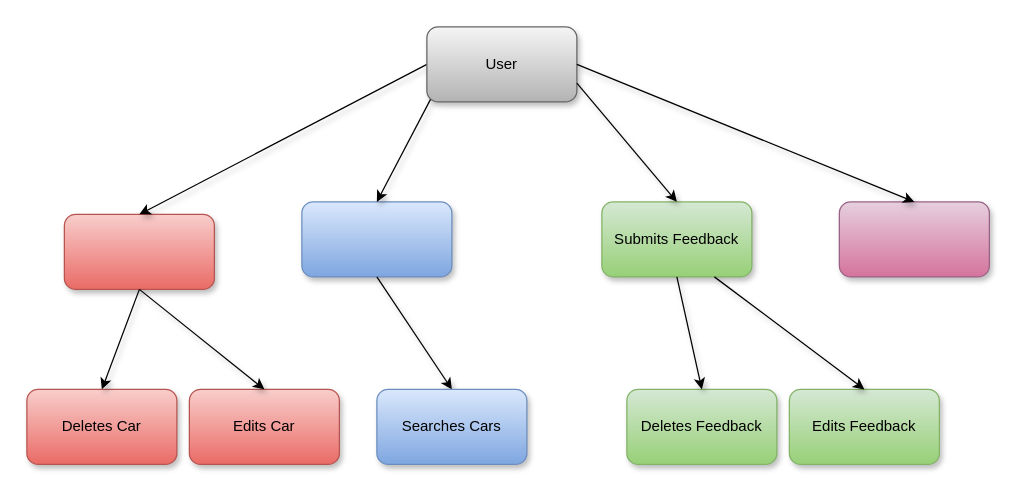
This 1019x495 diagram has some shape labels left out. Here are the shapes that lost their labels. From the top down, the centre of each, then its label:
At point (140, 253): "Submits Car".
At point (377, 241): "Views Cars".
At point (915, 241): "Views Feedbacks".
